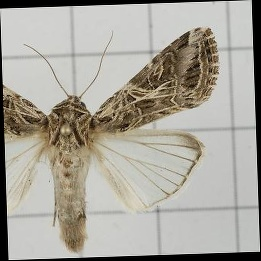Spodoptera litura: (5, 30, 223, 252)
